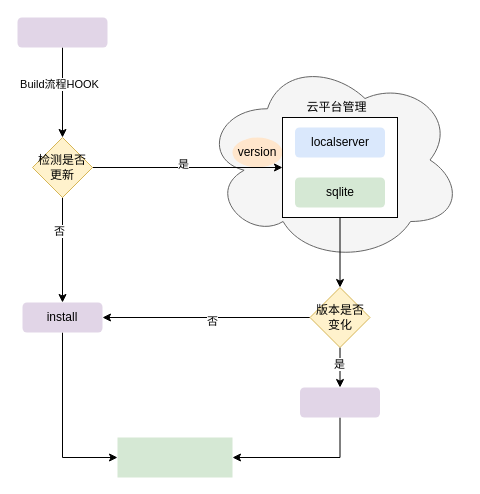
Image size: 480x494. Some labels were removed from this diagram. The centre of each missing label's shape, as x and y in pixels:
"APP" goes at [62,32].
"Start LocalServer" goes at [174,457].
"下载到本地" goes at [340,402].
